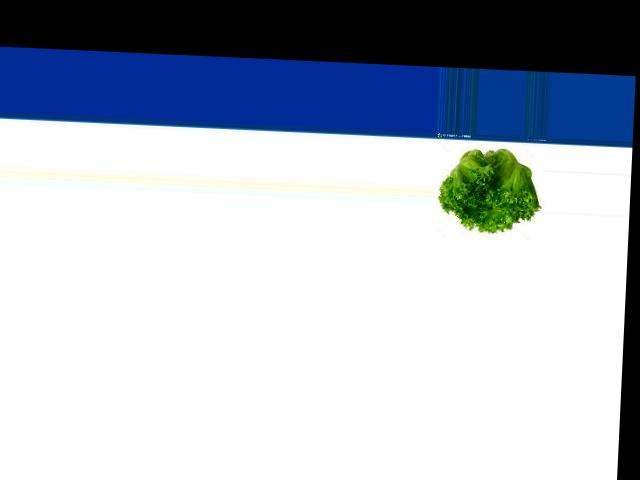lettuce: (437, 140, 540, 238)
